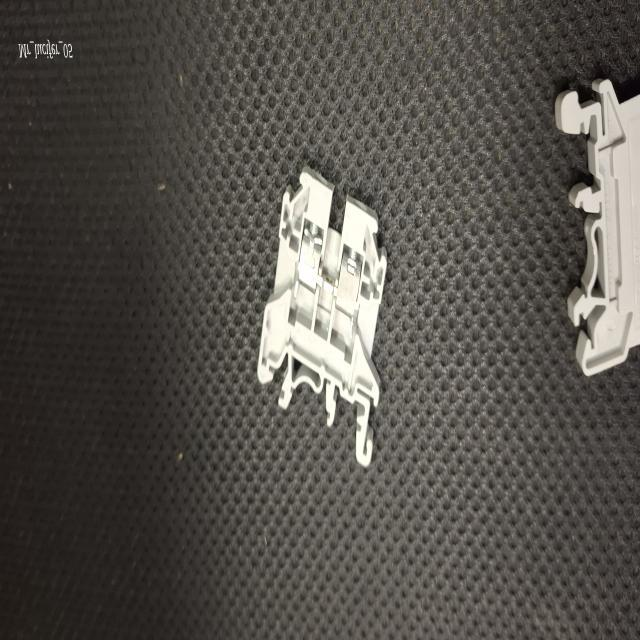Pass: (255, 167, 389, 473)
